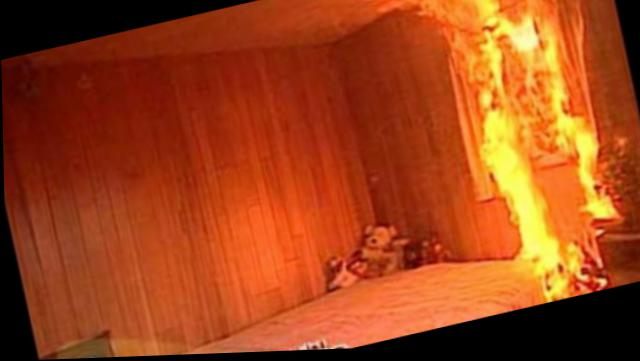fire: (446, 0, 638, 313)
